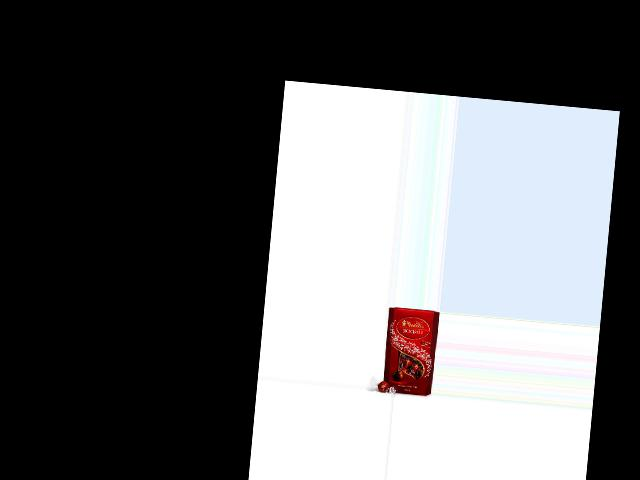chocolate: (376, 306, 438, 396)
